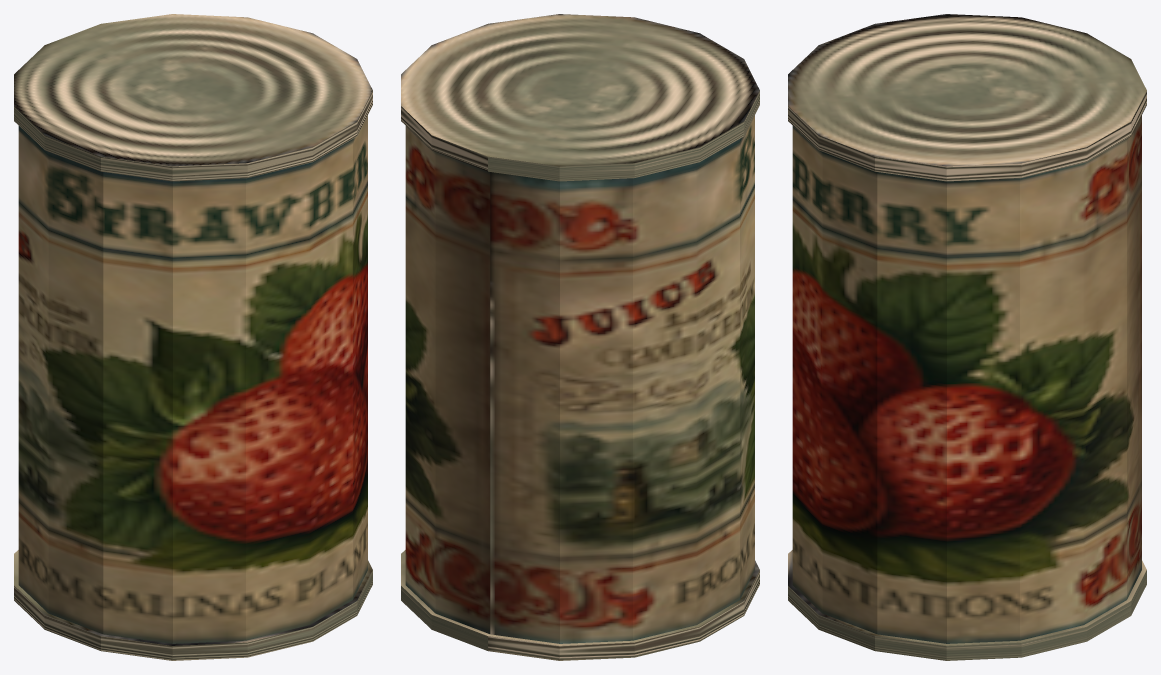
Rendered from strawberry_can.fbx.
3 renders of one model, left to right at view 1: azimuth 30°, elevation 25°; view 2: azimuth 150°, elevation 25°; view 3: azimuth 270°, elevation 25°, orthographic.
Parts seen in each view (by area): view 1: Cylinder.002; view 2: Cylinder.002; view 3: Cylinder.002.
Boxes of the visible parts, bbox=[...] form: Cylinder.002: bbox=[14, 14, 372, 660]; Cylinder.002: bbox=[401, 14, 759, 660]; Cylinder.002: bbox=[788, 14, 1146, 660].
Bounding box in the file's own units: 60.1 × 90.92 × 59.77.
Materials: 3 (3 with a texture image).
